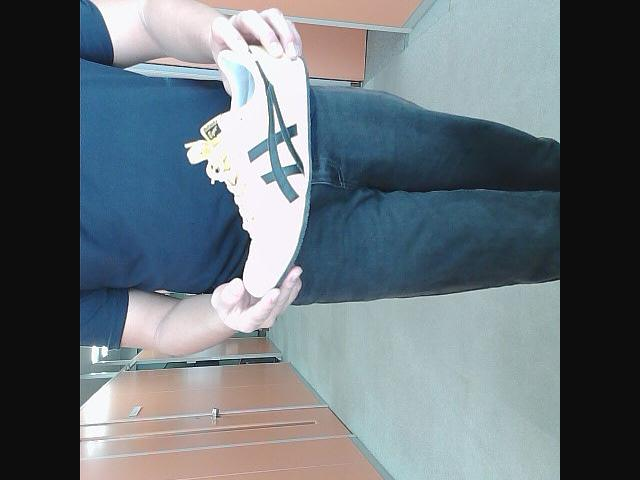Shoes: (196, 40, 316, 289)
